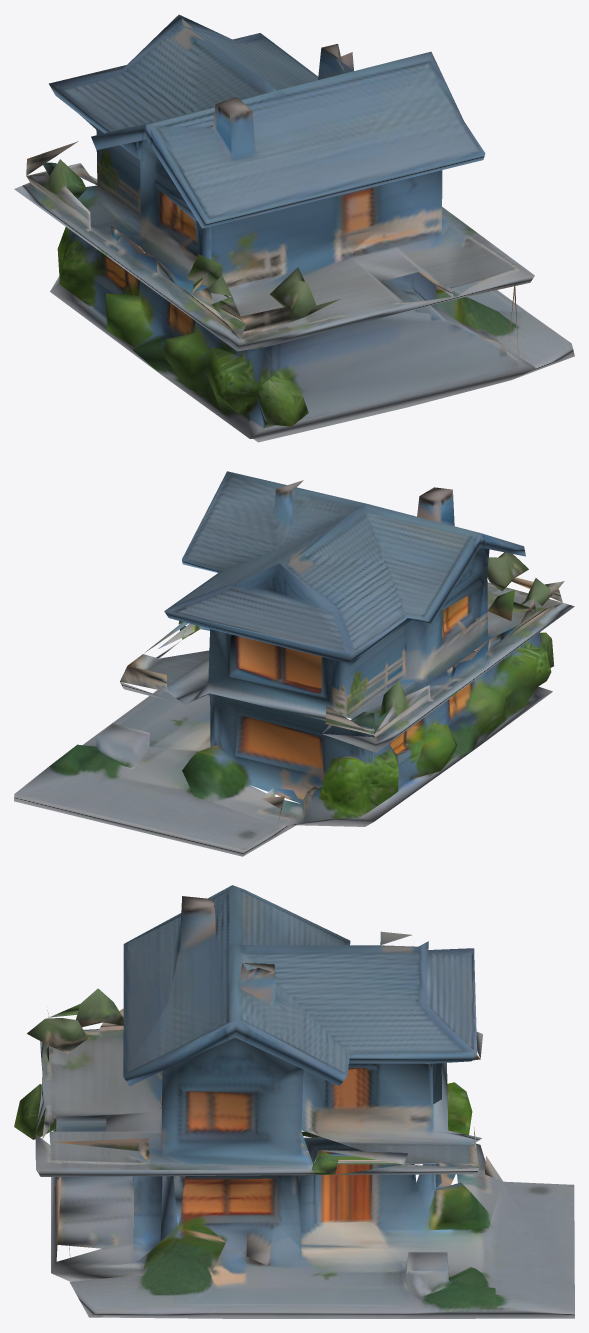
The model's file is 蓝色民房936面.glb.
3 renders of one model, top to bottom at view 1: azimuth 30°, elevation 25°; view 2: azimuth 150°, elevation 25°; view 3: azimuth 270°, elevation 25°, orthographic. The views are drawn at different scales.
Visible parts, largest first — view 1: mesh_0; view 2: mesh_0; view 3: mesh_0.
Boxes of the visible parts, x1,y1,x2,y2 form: mesh_0: [14, 14, 574, 442]; mesh_0: [14, 471, 574, 856]; mesh_0: [14, 885, 574, 1318].
Size of the model in its own units: 0.7413 by 0.5434 by 0.9924.
1 material, 1 textured.
